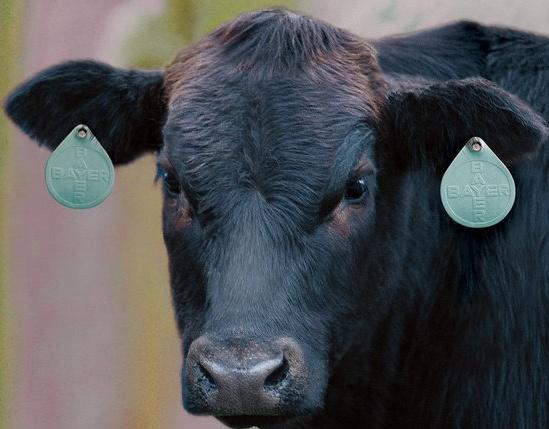muzzles: (179, 332, 326, 426)
